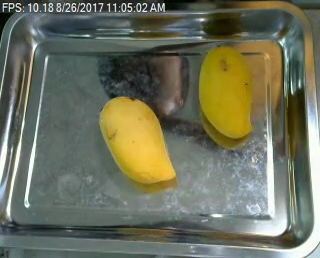Mango: (98, 91, 182, 195), (191, 44, 259, 141)
